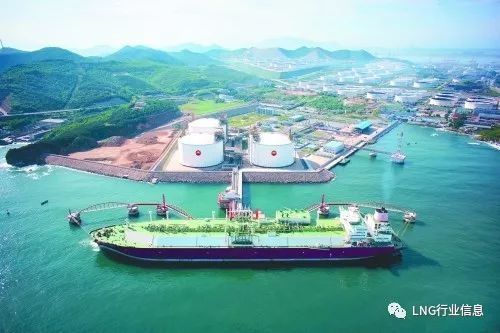Cargoship: (77, 188, 401, 266)
